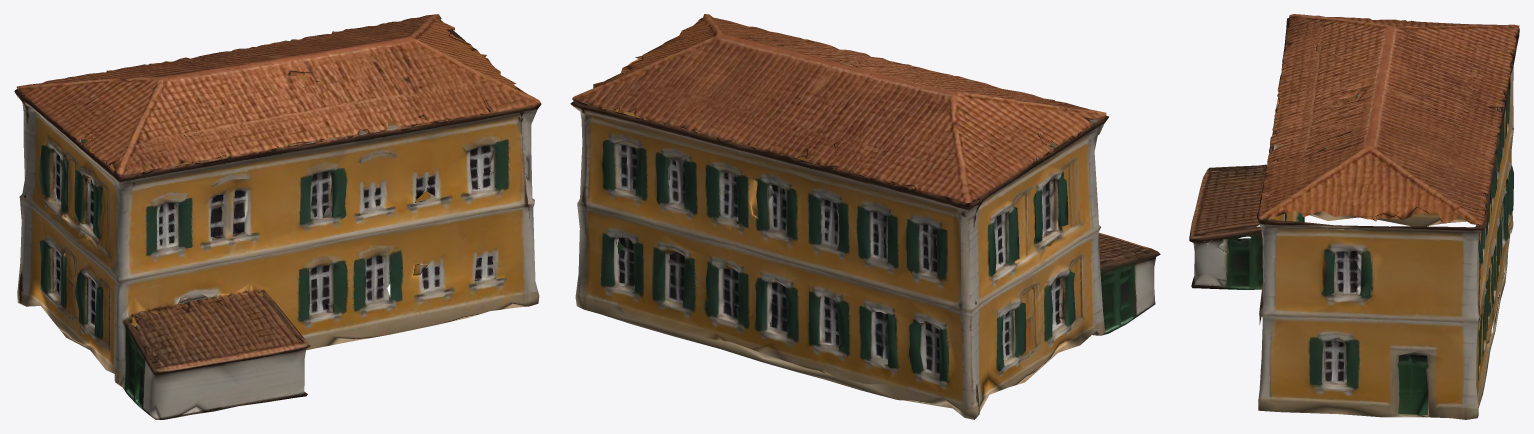
The model's file is cuneo-2022-schoolroom.glb.
3 views of the same model, side by side, from view 1: azimuth 30°, elevation 25°; view 2: azimuth 150°, elevation 25°; view 3: azimuth 270°, elevation 25° (orthographic). The views are drawn at different scales.
Parts seen in each view (by area): view 1: geometry_0; view 2: geometry_0; view 3: geometry_0.
Part boxes in pixels (box(x1,y1,x2,y2)): geometry_0: box(14, 14, 541, 419); geometry_0: box(570, 14, 1160, 419); geometry_0: box(1189, 14, 1519, 419).
Bounding box in the file's own units: 1.76 × 1 × 1.23.
1 material, 1 textured.
